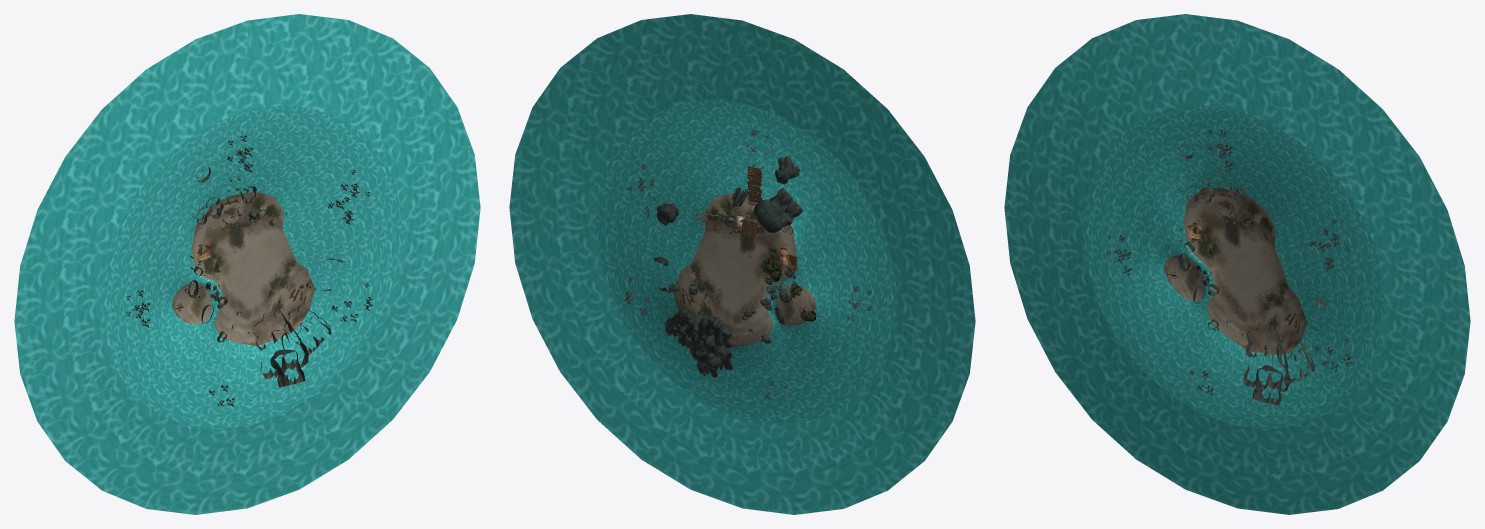
Rendered from FortressSea.fbx.
The picture shows the model from 3 angles, left to right: view 1: azimuth 30°, elevation 25°; view 2: azimuth 150°, elevation 25°; view 3: azimuth 330°, elevation 25°; orthographic projection.
Parts seen in each view (by area): view 1: Fortress_Sea; view 2: Fortress_Sea; view 3: Fortress_Sea.
Boxes of the visible parts, box(x1,y1,x2,y2) form: Fortress_Sea: box(14, 14, 480, 514); Fortress_Sea: box(509, 14, 975, 514); Fortress_Sea: box(1004, 14, 1470, 514).
Size of the model in its own units: 1665 by 1665 by 191.
